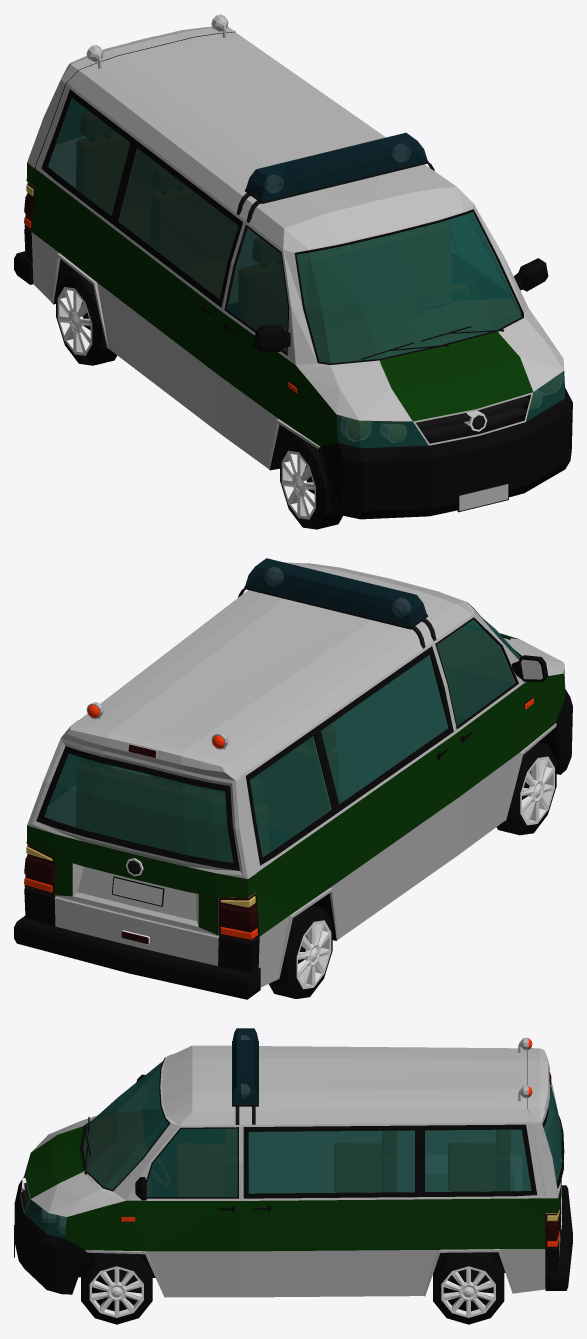
File: PoliceVan_02.FBX
3 renders of one model, top to bottom at view 1: azimuth 30°, elevation 25°; view 2: azimuth 150°, elevation 25°; view 3: azimuth 270°, elevation 25°, orthographic. The views are drawn at different scales.
Visible parts, largest first — view 1: PoliceVan_02, interior, lights, wheel_f_r, wheel_b_r, signalLights_01, signalLights_02, licensePlate_f, mirror_r, headLights, mirror_l; view 2: PoliceVan_02, interior, bumper_b, lights, wheel_b_r, wheel_f_r, tailLights, signalLights_01, signalLights_02, licensePlate_b, mirror_r; view 3: PoliceVan_02, interior, wheel_b_l, wheel_f_l, lights, bumper_b, signalLights_02, tailLights.
Part boxes in pixels (x1,y1,x2,y2): PoliceVan_02: (24,26,572,519); interior: (48,98,520,362); lights: (86,14,563,442); wheel_f_r: (280,436,342,529); wheel_b_r: (56,272,117,365); signalLights_01: (246,162,299,201); signalLights_02: (376,132,427,170); licensePlate_f: (457,482,508,512); mirror_r: (253,325,290,351); headLights: (348,375,560,441); mirror_l: (514,258,548,291); PoliceVan_02: (24,562,572,987); interior: (44,620,520,862); bumper_b: (14,916,260,999); lights: (86,565,533,944); wheel_b_r: (269,905,332,998); wheel_f_r: (496,742,556,835); tailLights: (24,744,258,943); signalLights_01: (372,587,426,626); signalLights_02: (245,558,296,595); licensePlate_b: (111,876,164,906); mirror_r: (511,655,548,681); PoliceVan_02: (14,1045,564,1297); interior: (83,1062,560,1196); wheel_b_l: (433,1252,504,1324); wheel_f_l: (81,1253,152,1324); lights: (43,1035,561,1233); bumper_b: (545,1185,572,1290); signalLights_02: (232,1074,258,1104); tailLights: (545,1072,562,1248).
Size of the model in its own units: 28.1 by 26.11 by 59.2.
